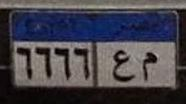6: (73, 47, 92, 80), (35, 46, 53, 79), (15, 47, 32, 80), (55, 45, 70, 80)
ain: (112, 47, 133, 84)
meem: (139, 49, 161, 82)
